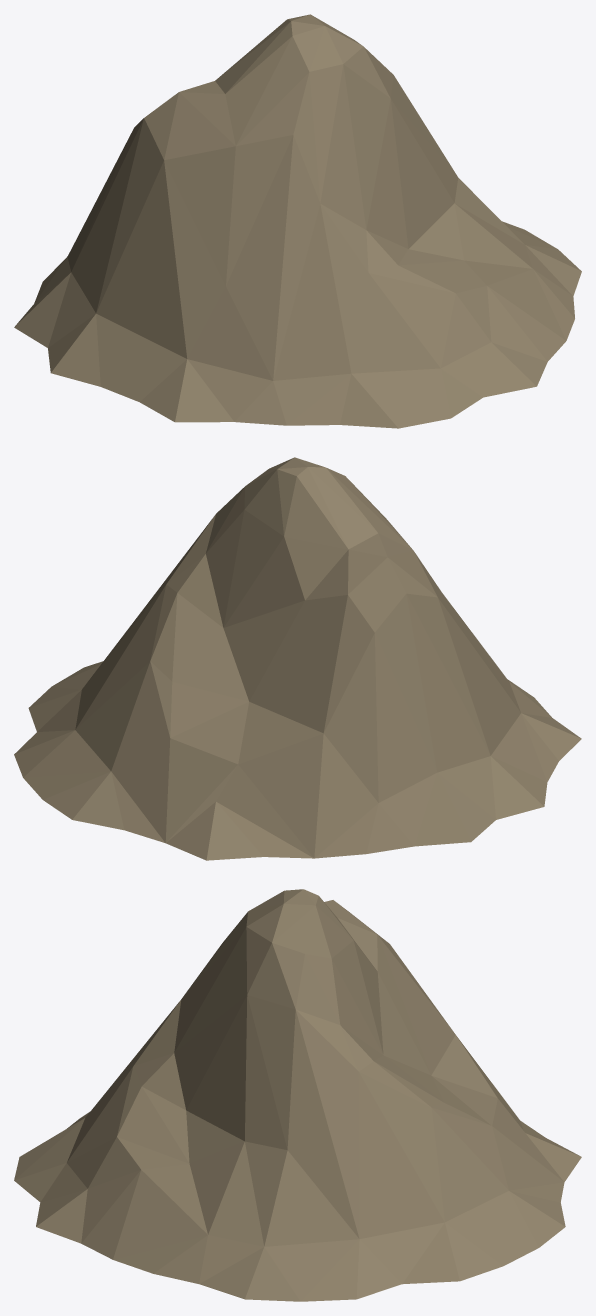
File: aserrin_lowpoly (1).fbx
3 renders of one model, top to bottom at view 1: azimuth 30°, elevation 25°; view 2: azimuth 150°, elevation 25°; view 3: azimuth 270°, elevation 25°, orthographic. The views are drawn at different scales.
Parts seen in each view (by area): view 1: Circle; view 2: Circle; view 3: Circle.
Boxes of the visible parts, x1,y1,x2,y2 form: Circle: (14,14,581,428); Circle: (14,457,581,860); Circle: (14,889,581,1301).
Bounding box in the file's own units: 147 × 81.31 × 146.
